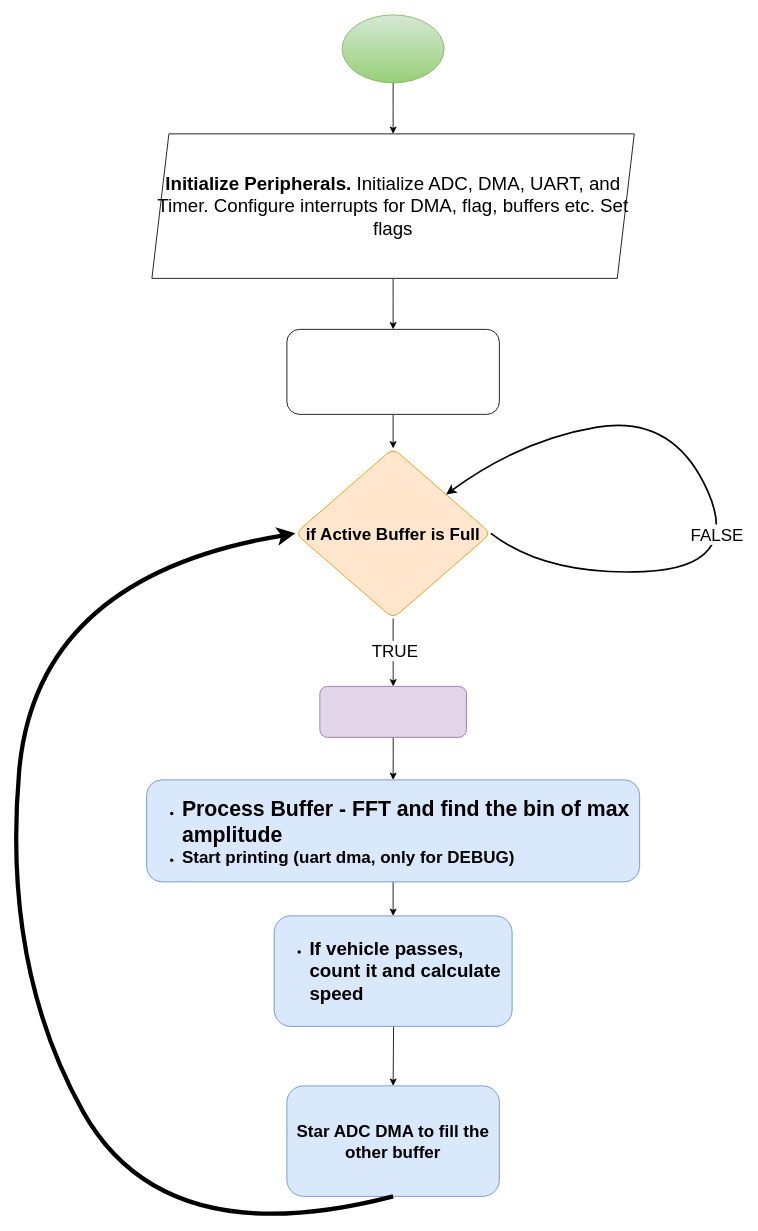
The diagram is 758 pixels wide and 1231 high, and some of its shapes have lost their labels. Each missing label, with the centre of its shape:
"Clear Flags Swap Buffers" belongs at pixel 392 711.
"START" belongs at pixel 392 48.
"Start ADC DMA - Fill active buffer" belongs at pixel 392 371.
